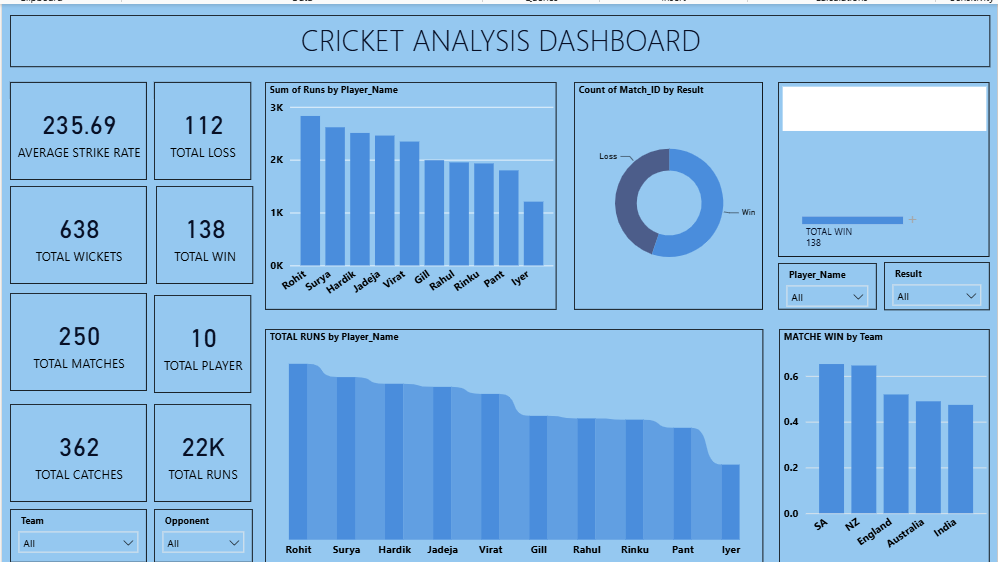

What the dashboard file says about the page in this screenshot:
{"tool":"powerbi","page":{"name":"Page 1","canvas":[1280,720],"ordinal":0},"visuals":[{"type":"textbox","box":[10.3,14.1,1260.7,66.8],"z":0},{"type":"card","fields":{"Values":["Cricket_Statistics_250_Records.AVERAGE STRIKE RATE"]},"box":[10.3,100.2,176.1,125.9],"z":1000},{"type":"card","fields":{"Values":["Cricket_Statistics_250_Records.TOTAL CATCHES"]},"box":[10.3,514.1,176.1,125.9],"z":2000},{"type":"card","fields":{"Values":["Cricket_Statistics_250_Records.TOTAL LOSS"]},"box":[195.3,100.2,124.7,125.9],"z":3000},{"type":"card","fields":{"Values":["Cricket_Statistics_250_Records.TOTAL MATCHES"]},"box":[10.3,371.4,176.1,125.9],"z":4000},{"type":"card","fields":{"Values":["Cricket_Statistics_250_Records.TOTAL PLAYER"]},"box":[195.3,374,124.7,125.9],"z":5000},{"type":"card","fields":{"Values":["Cricket_Statistics_250_Records.TOTAL RUNS"]},"box":[195.3,514.1,124.7,125.9],"z":6000},{"type":"card","fields":{"Values":["Cricket_Statistics_250_Records.TOTAL WICKETS"]},"box":[10.3,233.9,176.1,125.9],"z":7000},{"type":"card","fields":{"Values":["Cricket_Statistics_250_Records.TOTAL WIN"]},"box":[197.9,233.9,124.7,125.9],"z":8000},{"type":"columnChart","fields":{"Category":["Cricket_Statistics_250_Records.Player_Name"],"Y":["Sum(Cricket_Statistics_250_Records.Runs)"]},"box":[338,100.2,375.3,293],"z":9000},{"type":"donutChart","fields":{"Category":["Cricket_Statistics_250_Records.Result"],"Y":["CountNonNull(Cricket_Statistics_250_Records.Match_ID)"]},"box":[736.4,100.2,242.9,293],"z":10000},{"type":"ribbonChart","fields":{"Category":["Cricket_Statistics_250_Records.Player_Name"],"Y":["Cricket_Statistics_250_Records.TOTAL RUNS"]},"box":[338.3,418.1,640.6,301],"z":11000},{"type":"decompositionTreeVisual","fields":{"ExplainBy":["Cricket_Statistics_250_Records.Team"],"Analyze":["Cricket_Statistics_250_Records.TOTAL WIN"]},"box":[998.6,100.2,272.4,224.9],"z":12000},{"type":"slicer","fields":{"Values":["Cricket_Statistics_250_Records.Team"]},"box":[10.3,650.3,176.1,69.4],"z":13000},{"type":"slicer","fields":{"Values":["Cricket_Statistics_250_Records.Opponent"]},"box":[195.3,650.3,127.2,69.4],"z":14000},{"type":"slicer","fields":{"Values":["Cricket_Statistics_250_Records.Result"]},"box":[1134.8,331.6,136.2,61.7],"z":15000},{"type":"slicer","fields":{"Values":["Cricket_Statistics_250_Records.Player_Name"]},"box":[998.6,332.9,127.2,60.4],"z":16000},{"type":"lineStackedColumnComboChart","fields":{"Category":["Cricket_Statistics_250_Records.Team"],"Y":["Cricket_Statistics_250_Records.MATCHE WIN"]},"box":[999.6,418.1,271.4,301],"z":17000}]}

Visuals, with their boxes in screenshot pixels (x1, y1, x2, y2):
textbox: 13, 13, 982, 65
card - Cricket_Statistics_250_Records.AVERAGE STRIKE RATE: 13, 80, 149, 176
card - Cricket_Statistics_250_Records.TOTAL CATCHES: 13, 398, 149, 495
card - Cricket_Statistics_250_Records.TOTAL LOSS: 155, 80, 251, 176
card - Cricket_Statistics_250_Records.TOTAL MATCHES: 13, 288, 149, 385
card - Cricket_Statistics_250_Records.TOTAL PLAYER: 155, 290, 251, 387
card - Cricket_Statistics_250_Records.TOTAL RUNS: 155, 398, 251, 495
card - Cricket_Statistics_250_Records.TOTAL WICKETS: 13, 182, 149, 279
card - Cricket_Statistics_250_Records.TOTAL WIN: 157, 182, 253, 279
columnChart - Cricket_Statistics_250_Records.Player_Name x Sum(Cricket_Statistics_250_Records.Runs): 265, 80, 554, 305
donutChart - Cricket_Statistics_250_Records.Result x CountNonNull(Cricket_Statistics_250_Records.Match_ID): 571, 80, 758, 305
ribbonChart - Cricket_Statistics_250_Records.Player_Name x Cricket_Statistics_250_Records.TOTAL RUNS: 265, 324, 758, 556
decompositionTreeVisual - Cricket_Statistics_250_Records.Team x Cricket_Statistics_250_Records.TOTAL WIN: 773, 80, 982, 253
slicer - Cricket_Statistics_250_Records.Team: 13, 503, 149, 556
slicer - Cricket_Statistics_250_Records.Opponent: 155, 503, 253, 556
slicer - Cricket_Statistics_250_Records.Result: 878, 258, 982, 305
slicer - Cricket_Statistics_250_Records.Player_Name: 773, 259, 871, 305
lineStackedColumnComboChart - Cricket_Statistics_250_Records.Team x Cricket_Statistics_250_Records.MATCHE WIN: 774, 324, 982, 556
